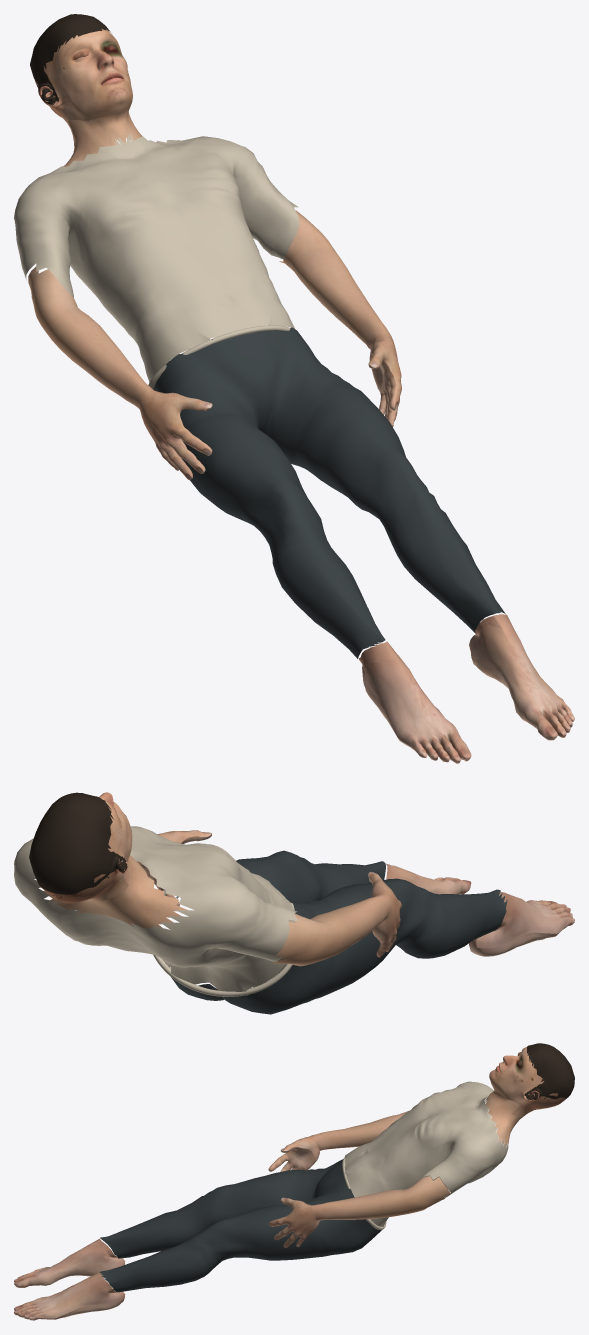
The model's file is pessoa-reclinada.glb.
3 views of the same model, one above another, from view 1: azimuth 30°, elevation 25°; view 2: azimuth 150°, elevation 25°; view 3: azimuth 270°, elevation 25° (orthographic). The views are drawn at different scales.
Visible parts, largest first — view 1: Pessoa adulta reclinada; view 2: Pessoa adulta reclinada; view 3: Pessoa adulta reclinada.
Boxes of the visible parts, x1=… form: Pessoa adulta reclinada: x1=14, y1=14, x2=574, y2=763; Pessoa adulta reclinada: x1=14, y1=792, x2=574, y2=1014; Pessoa adulta reclinada: x1=14, y1=1043, x2=574, y2=1320.
Bounding box in the file's own units: 0.7801 × 1.08 × 2.17.
4 materials, 1 textured.
